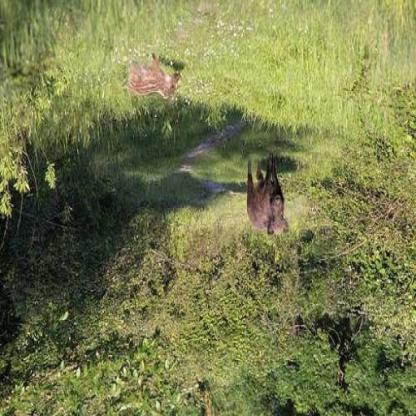boar: (218, 147, 297, 250)
